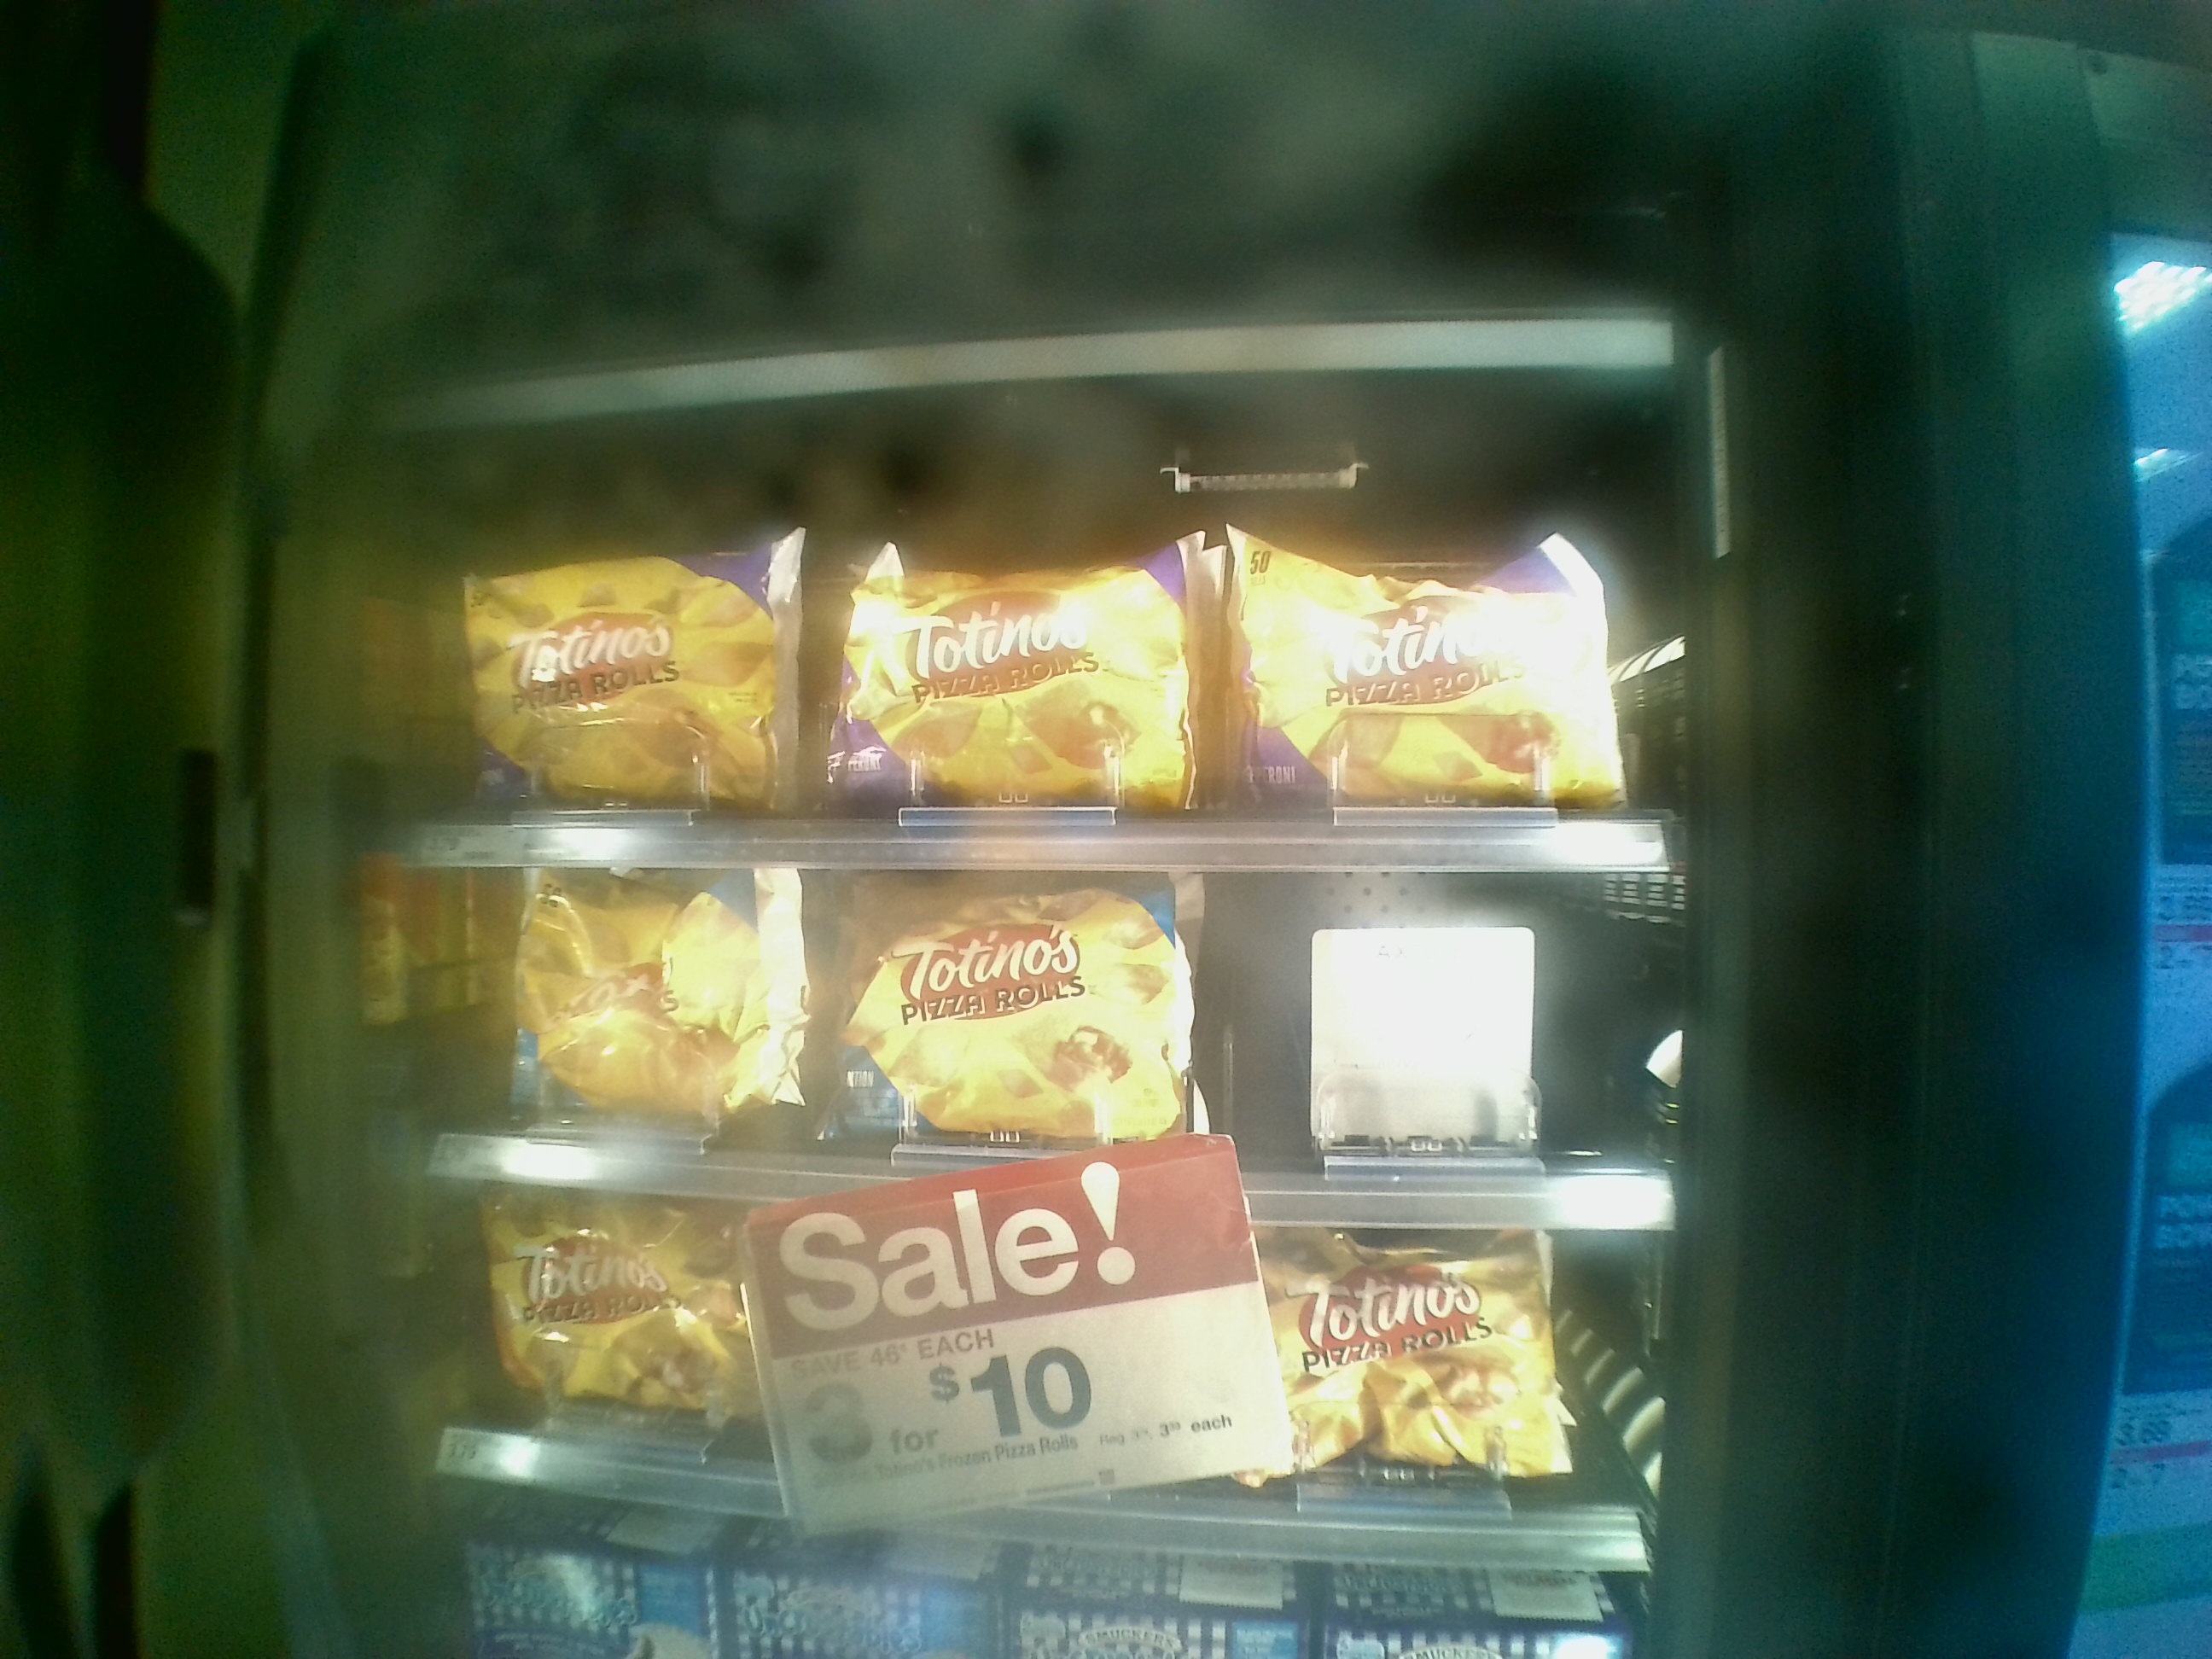shelf: (392, 422, 1683, 877), (376, 1197, 1672, 1575), (380, 871, 1669, 1234)
